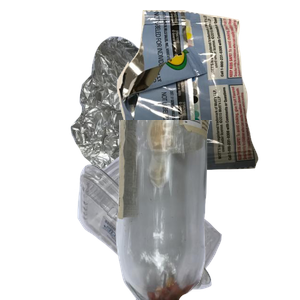glass: (113, 120, 300, 300)
metal: (68, 34, 300, 214)
plastic: (75, 147, 289, 300)
trash: (114, 10, 300, 180)
